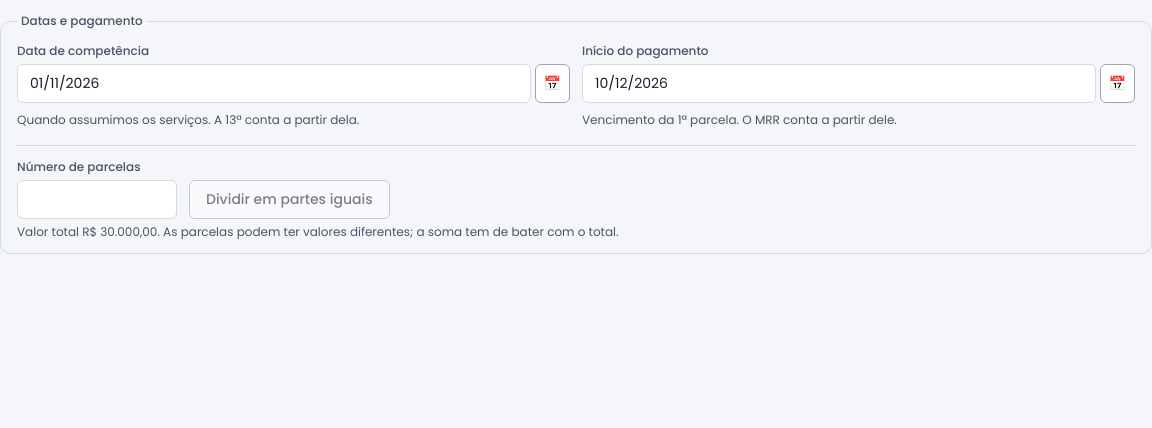
it: na tela › valores diferentes, digitados à mão, também valem
Type "2" into the number field labelled "Número de parcelas" at (97, 200), box [17, 180, 177, 219]
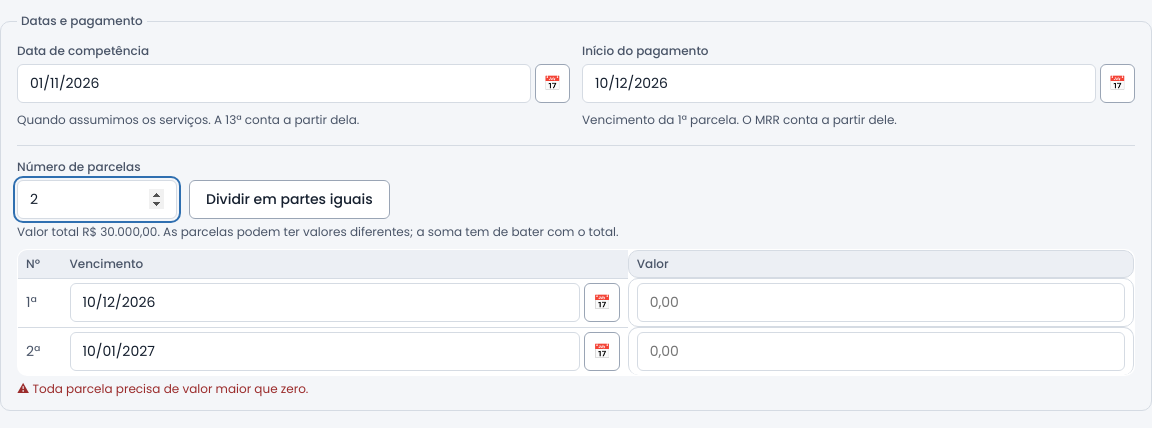
Type "20.000,00" into the field named "Valor da 1ª parcela" at (881, 302), box [637, 283, 1125, 322]
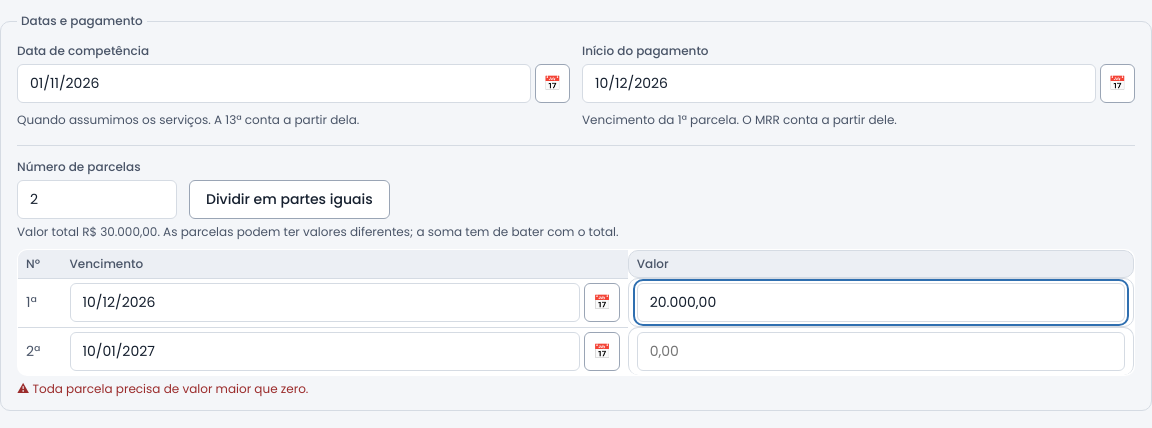
Type "10.000,00" into the field named "Valor da 2ª parcela" at (881, 352), box [637, 332, 1125, 371]
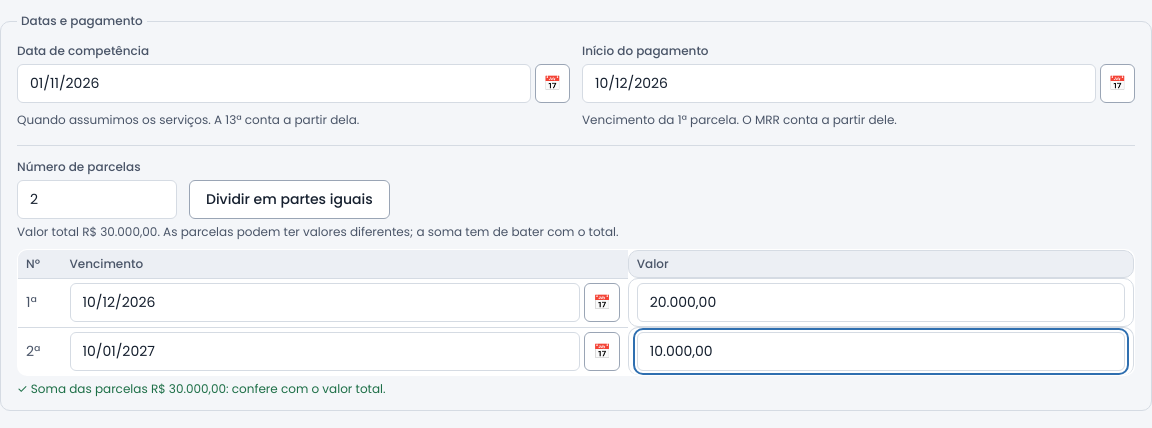
Expected: the text "✓ Soma das parcelas R$ 30.000,00: confere com o valor total." is shown, [17, 380, 386, 397]
